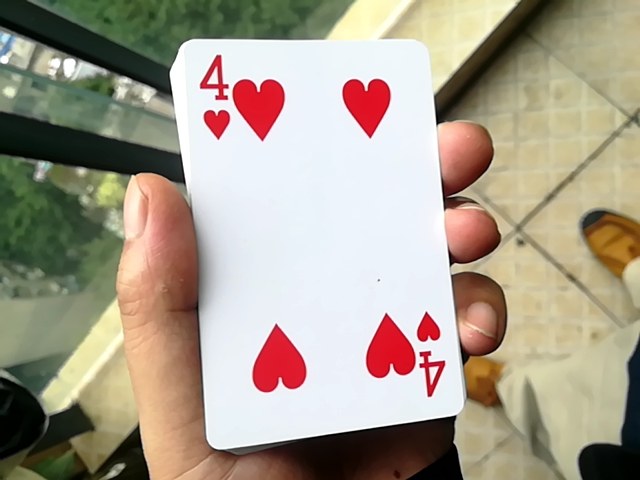hx 4: (147, 39, 464, 444)
